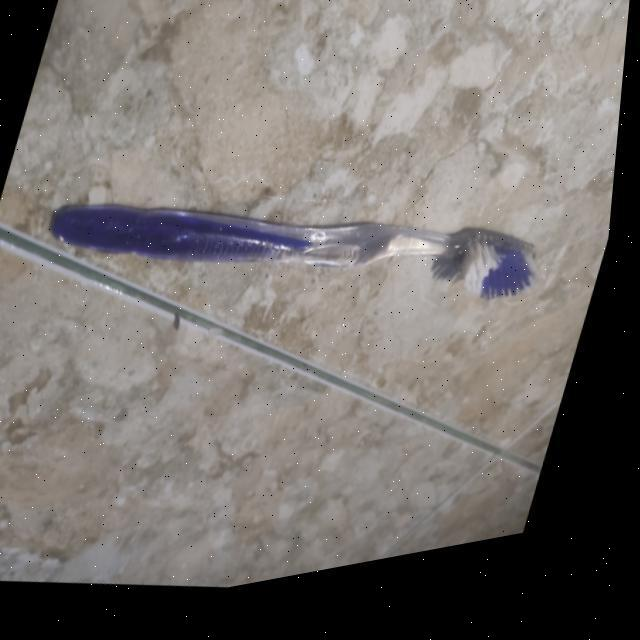toothbrush: (48, 204, 554, 332)
